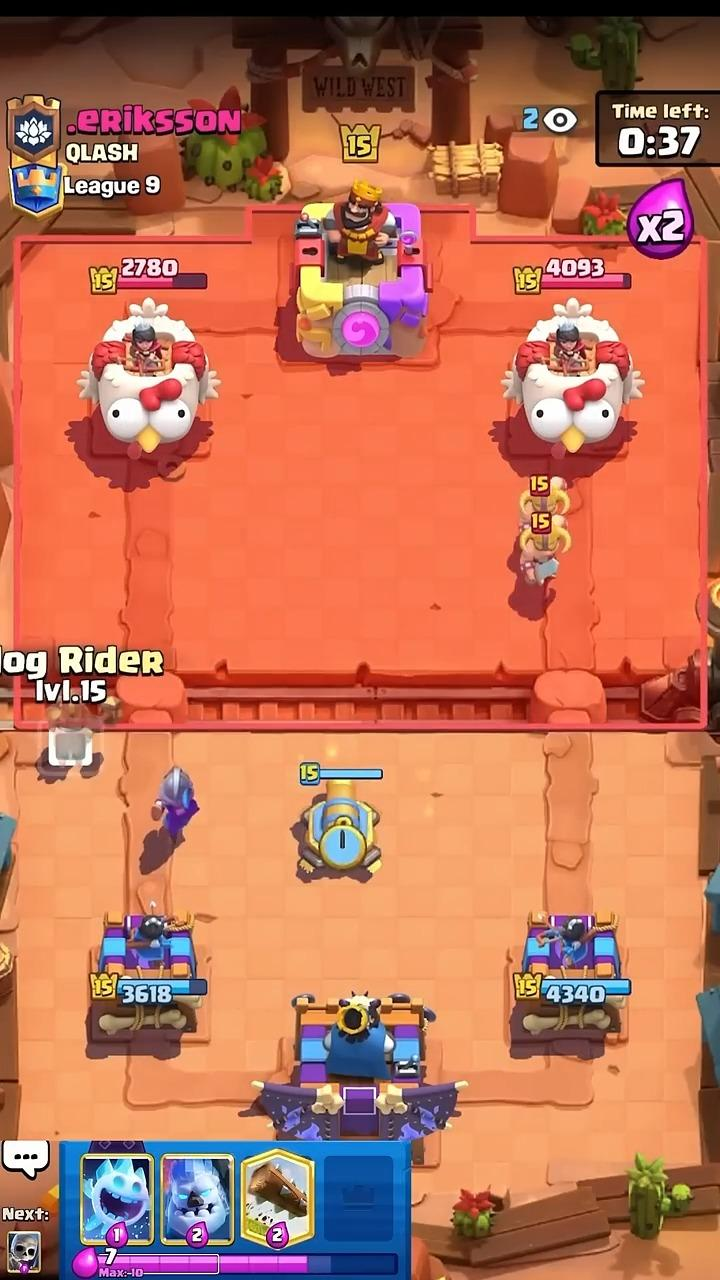cannon: (304, 779, 378, 864)
elite barbarians: (520, 508, 571, 588), (521, 477, 569, 525)
musketeer: (154, 766, 198, 851)
